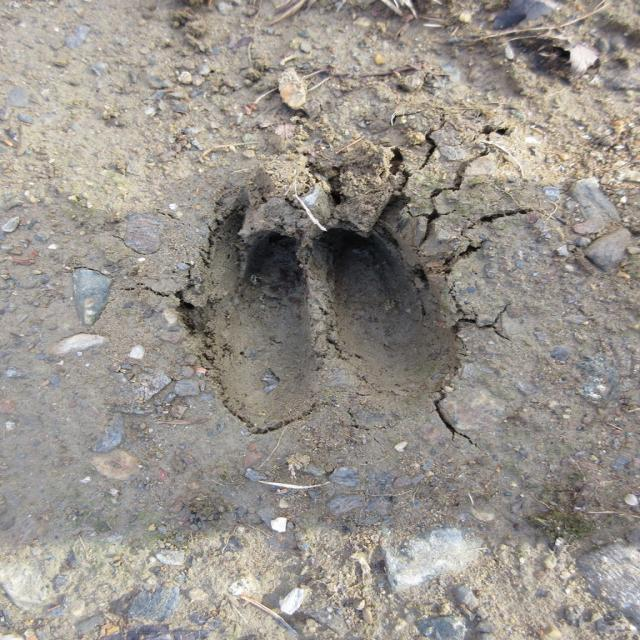deer: (207, 215, 458, 404)
